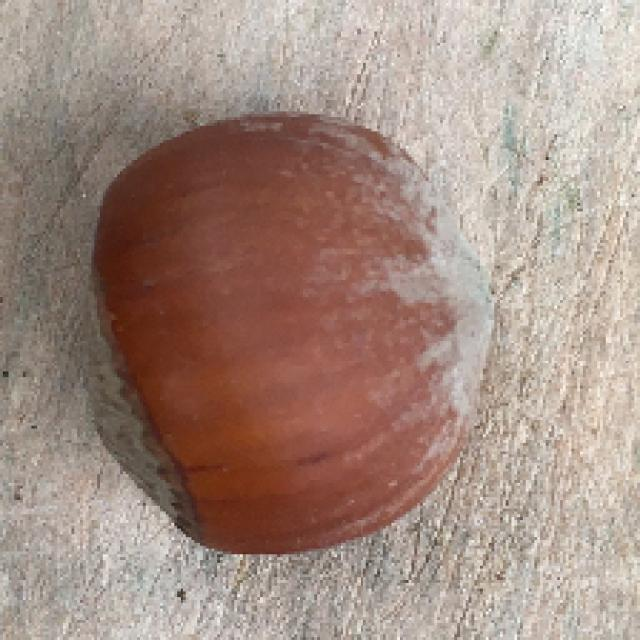qualityHazelnut: (77, 114, 500, 560)
